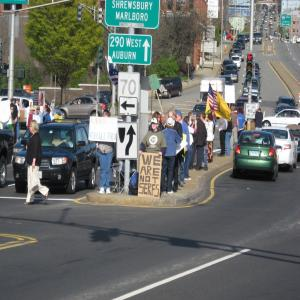Vehicle-registration-plate: (250, 150, 261, 157), (38, 173, 43, 179)
